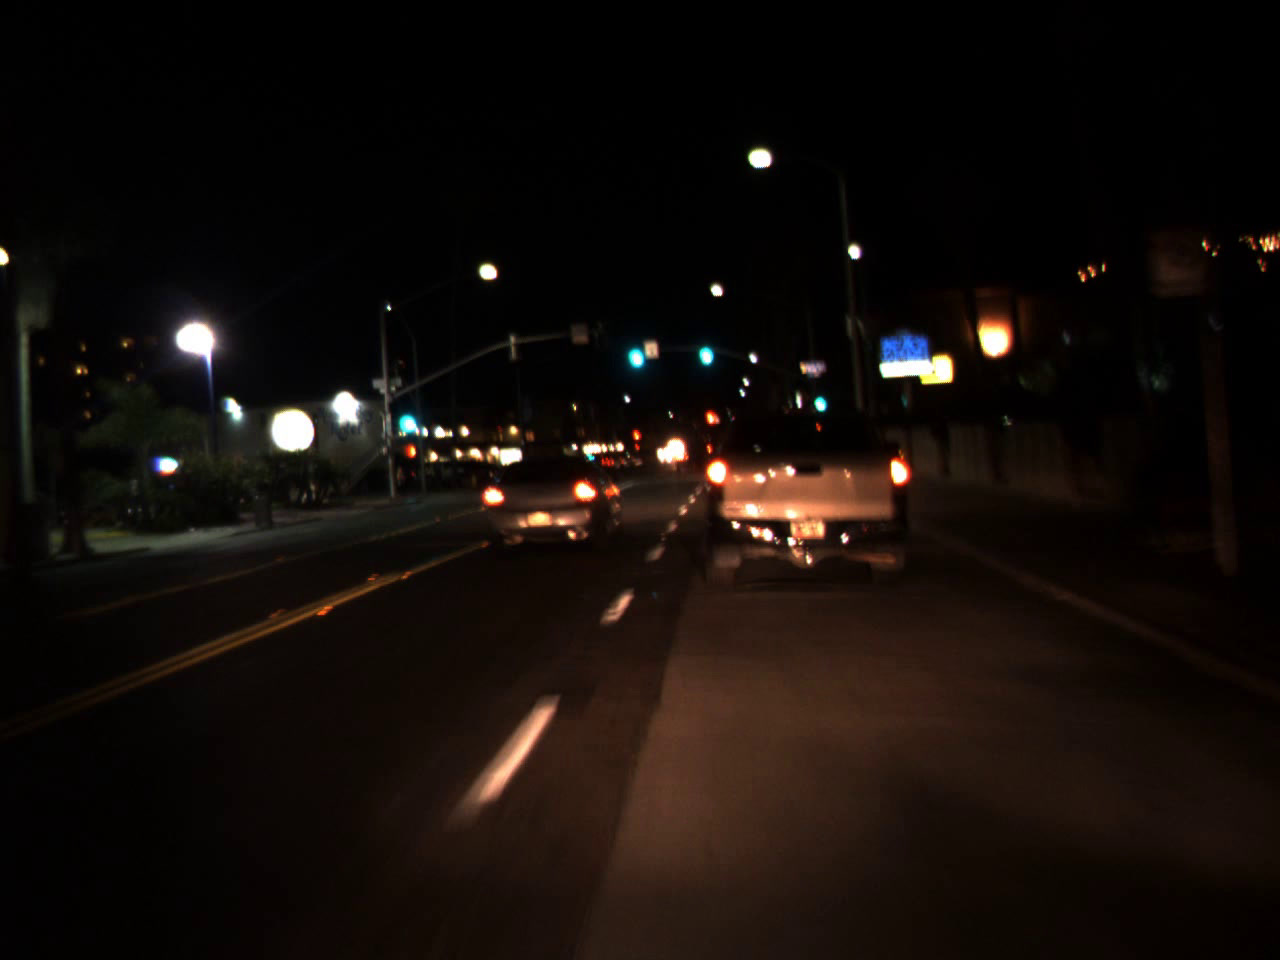go: (392, 392, 420, 440), (623, 324, 646, 375), (693, 324, 716, 372), (811, 381, 829, 414)
